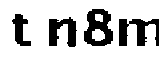8: (81, 7, 113, 48)
m: (117, 14, 160, 51)
n: (46, 14, 77, 52)
t: (10, 11, 33, 49)
